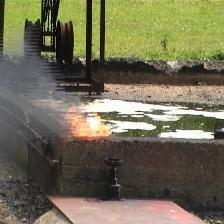fire: (64, 103, 114, 138)
